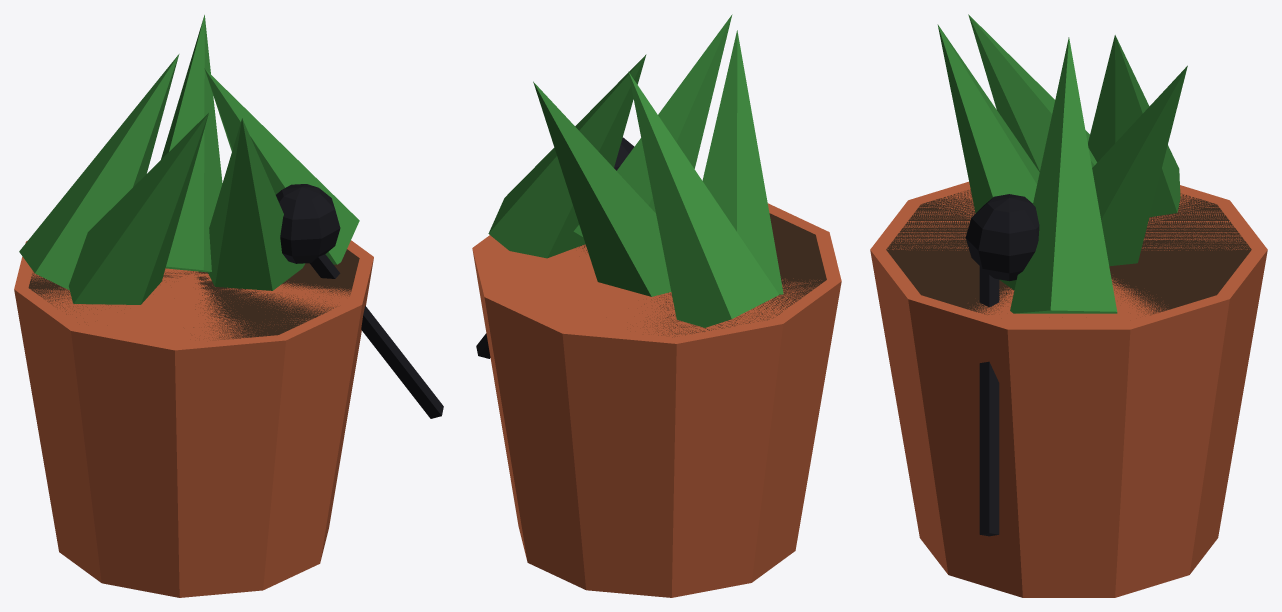
File: pot_mic.glb
The picture shows the model from 3 angles, left to right: view 1: azimuth 30°, elevation 25°; view 2: azimuth 150°, elevation 25°; view 3: azimuth 270°, elevation 25°; orthographic projection. The views are drawn at different scales.
Parts seen in each view (by area): view 1: pot_terracotta, leaves_leaf (×5), soil_soil, mic_black, cable_black; view 2: pot_terracotta, leaves_leaf (×5), soil_soil; view 3: pot_terracotta, leaves_leaf (×5), soil_soil, mic_black, cable_black.
Part boxes in pixels (x1=…): pot_terracotta: x1=14, y1=240, x2=373, y2=597; leaves_leaf (×5): x1=19, y1=15, x2=359, y2=304; soil_soil: x1=28, y1=249, x2=359, y2=339; mic_black: x1=276, y1=184, x2=340, y2=263; cable_black: x1=309, y1=254, x2=443, y2=418; pot_terracotta: x1=472, y1=203, x2=841, y2=597; leaves_leaf (×5): x1=488, y1=14, x2=783, y2=327; soil_soil: x1=579, y1=213, x2=826, y2=337; pot_terracotta: x1=870, y1=181, x2=1267, y2=597; leaves_leaf (×5): x1=937, y1=14, x2=1187, y2=313; soil_soil: x1=886, y1=189, x2=1251, y2=315; mic_black: x1=965, y1=194, x2=1039, y2=281; cable_black: x1=979, y1=266, x2=999, y2=536.
Bounding box in the file's own units: 0.2288 × 0.2816 × 0.2.
